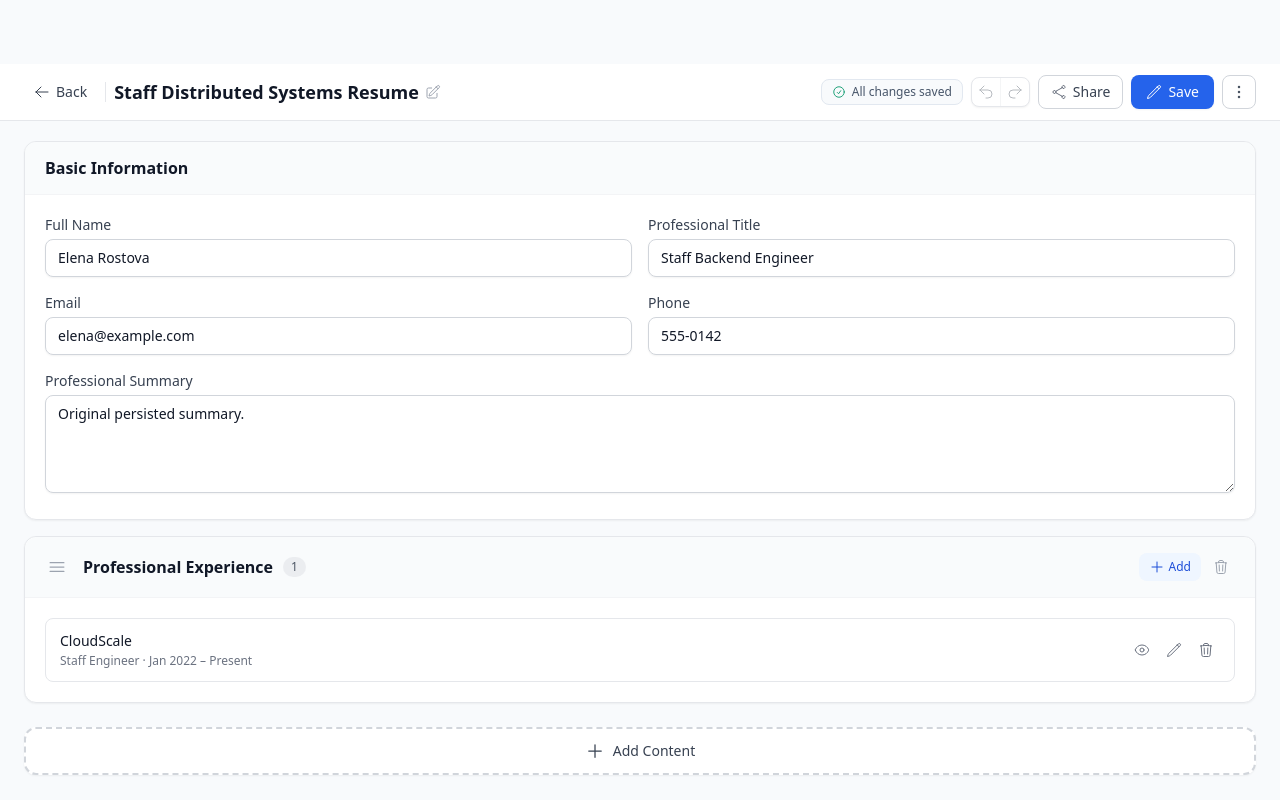
Test case: Global Auth Event Bus & In-Place Re-Authentication Flow › validates inputs, displays warning on invalid credentials, prevents infinite auto-save loops, and never logs credentials
This screenshot has width=1280, height=800.
Replace the text in the field labelled "Full Name" with "Elena Updated" at (338, 258), box [45,239,632,277]
Wait 2000 ms
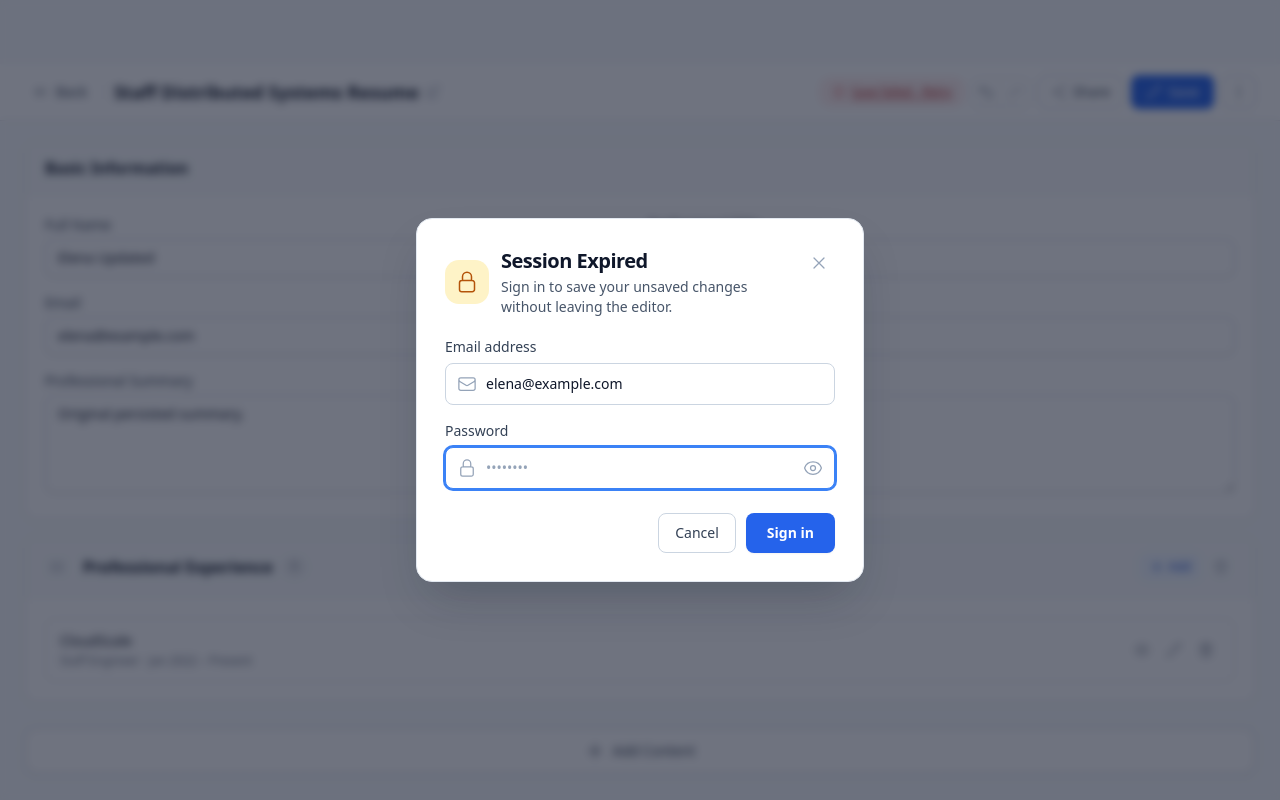
Empty fields validation
Clear the field labelled "Email address" at (640, 384), box [445,363,835,405]
Click the button "Sign in" at (790, 533), box [746,513,835,553]
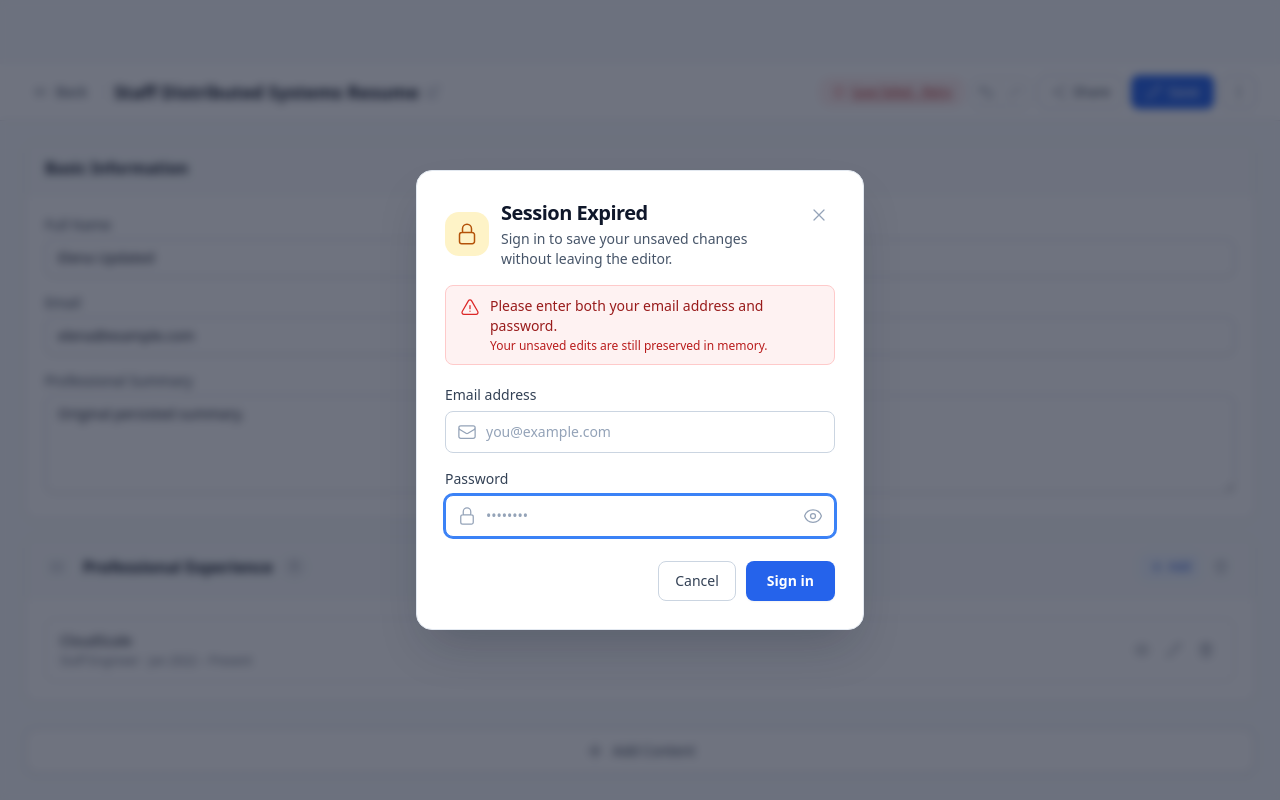
Result: the message with test id "reauth-error-alert" shows "Please enter both your email address and password" at [490,296,764,335]
Invalid email format validation
Type "not-an-email" into the field labelled "Email address" at (640, 432), box [445,411,835,453]
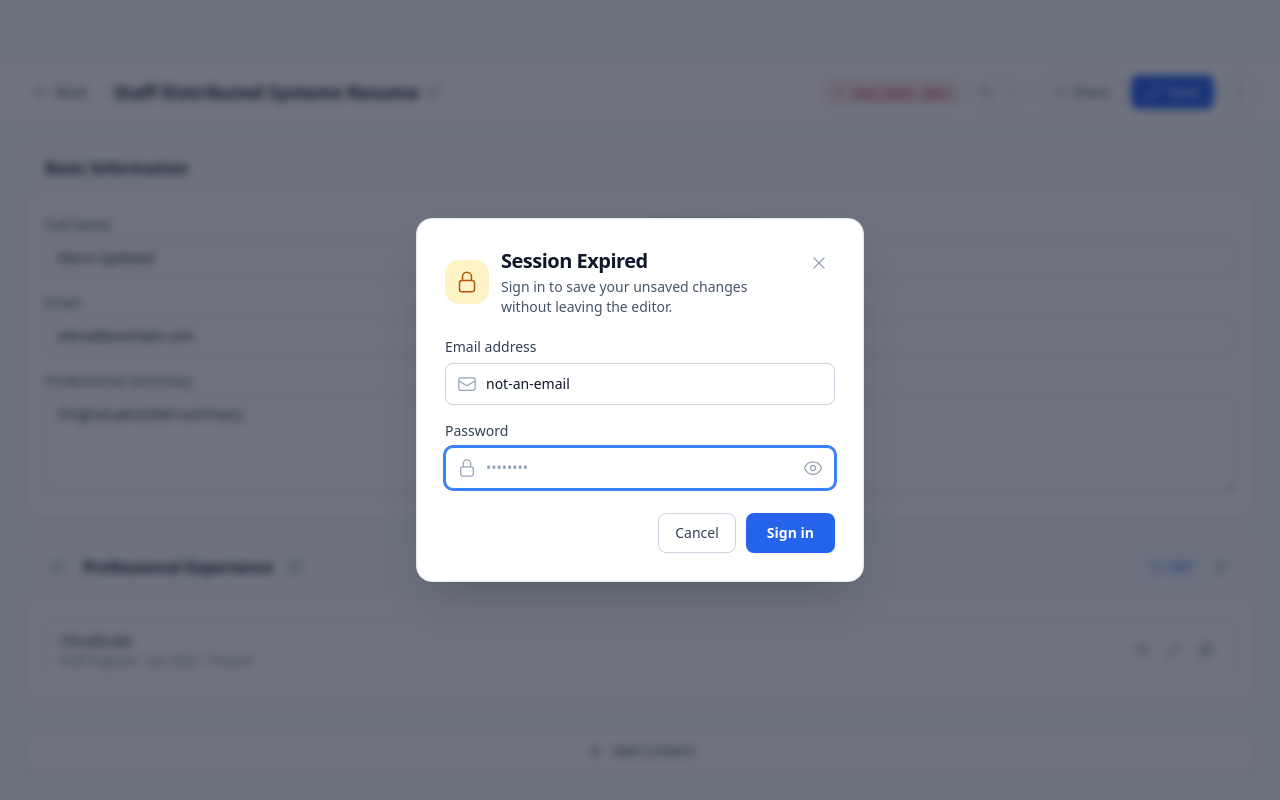
Type "MySuperSecretPassword#42" into the password field labelled "Password" at (640, 468), box [445,447,835,489]
Click the button "Sign in" at (790, 533), box [746,513,835,553]
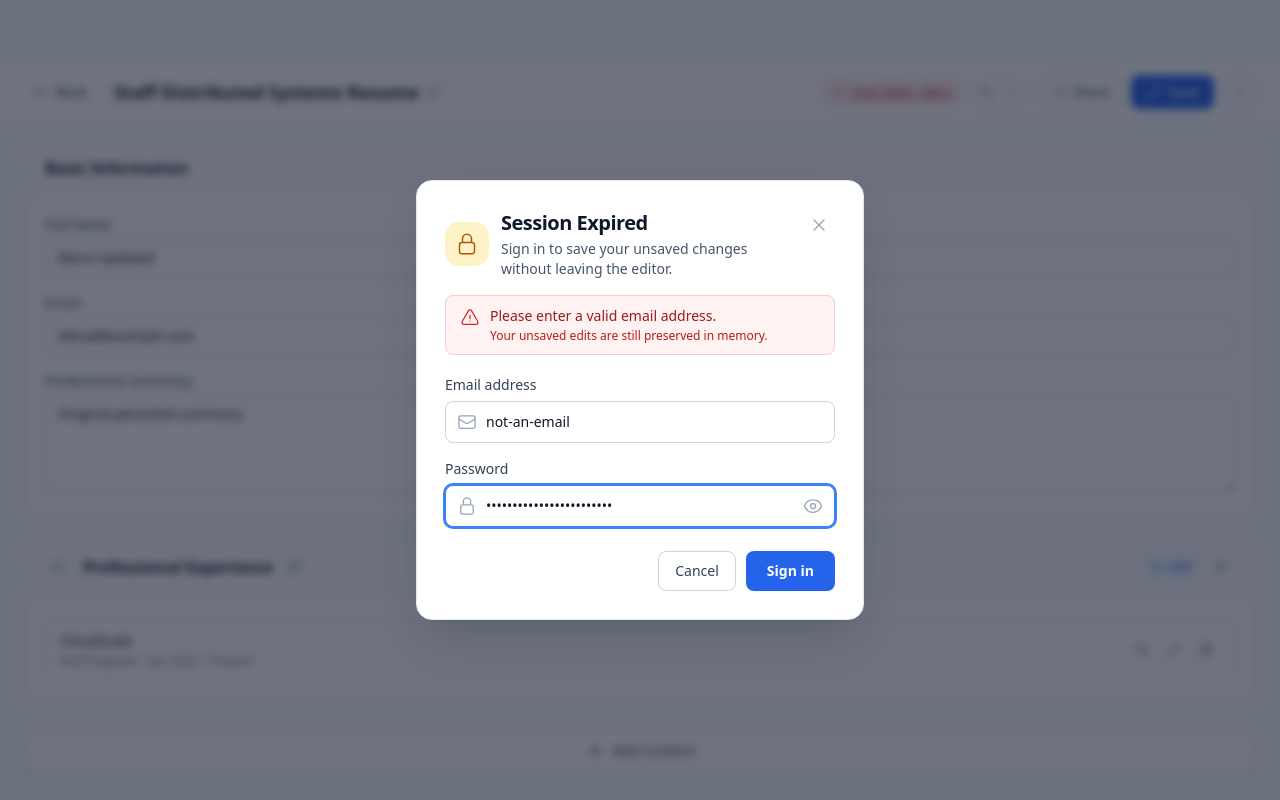
Result: the message with test id "reauth-error-alert" shows "Please enter a valid email address" at [490,306,716,325]
Invalid credentials from server (401 on /api/auth/login)
Replace the text in the field labelled "Email address" with "elena@example.com" at (640, 422), box [445,401,835,443]
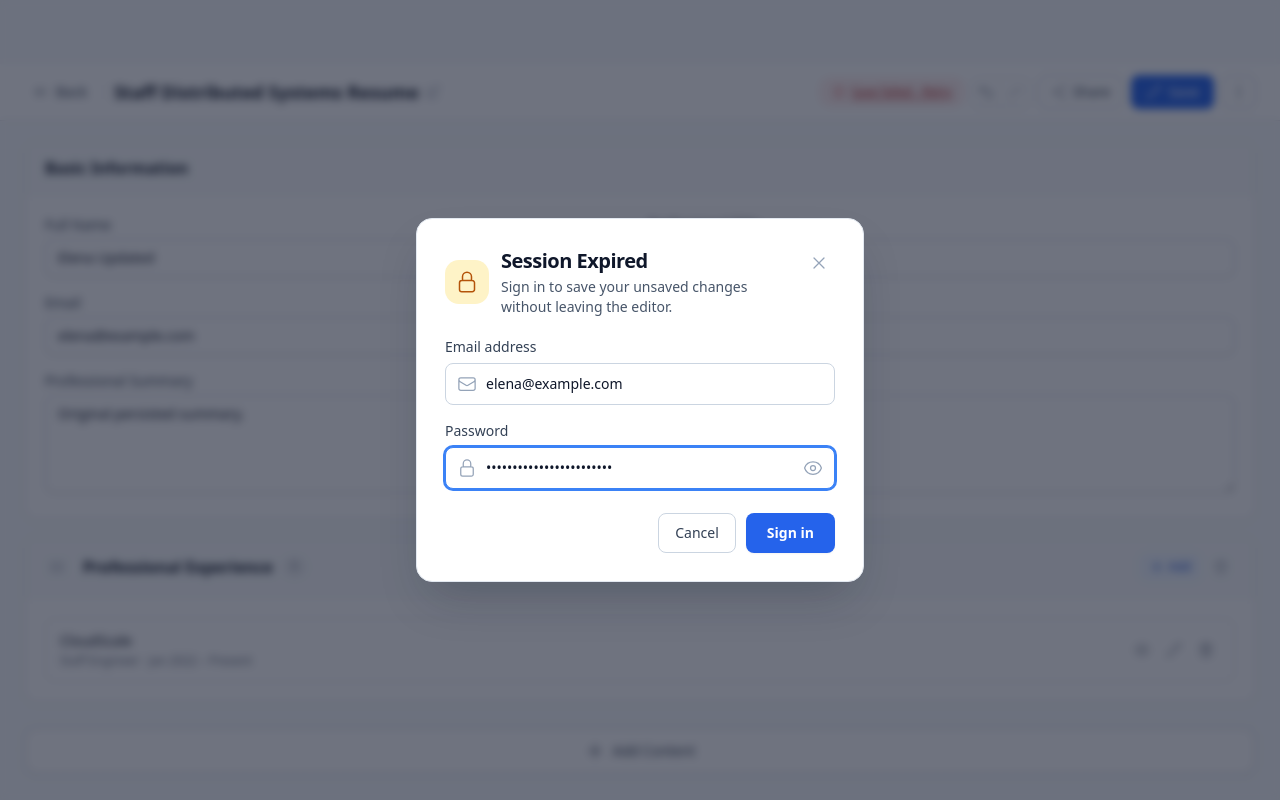
Click the button "Sign in" at (790, 533), box [746,513,835,553]
Wait 10000 ms
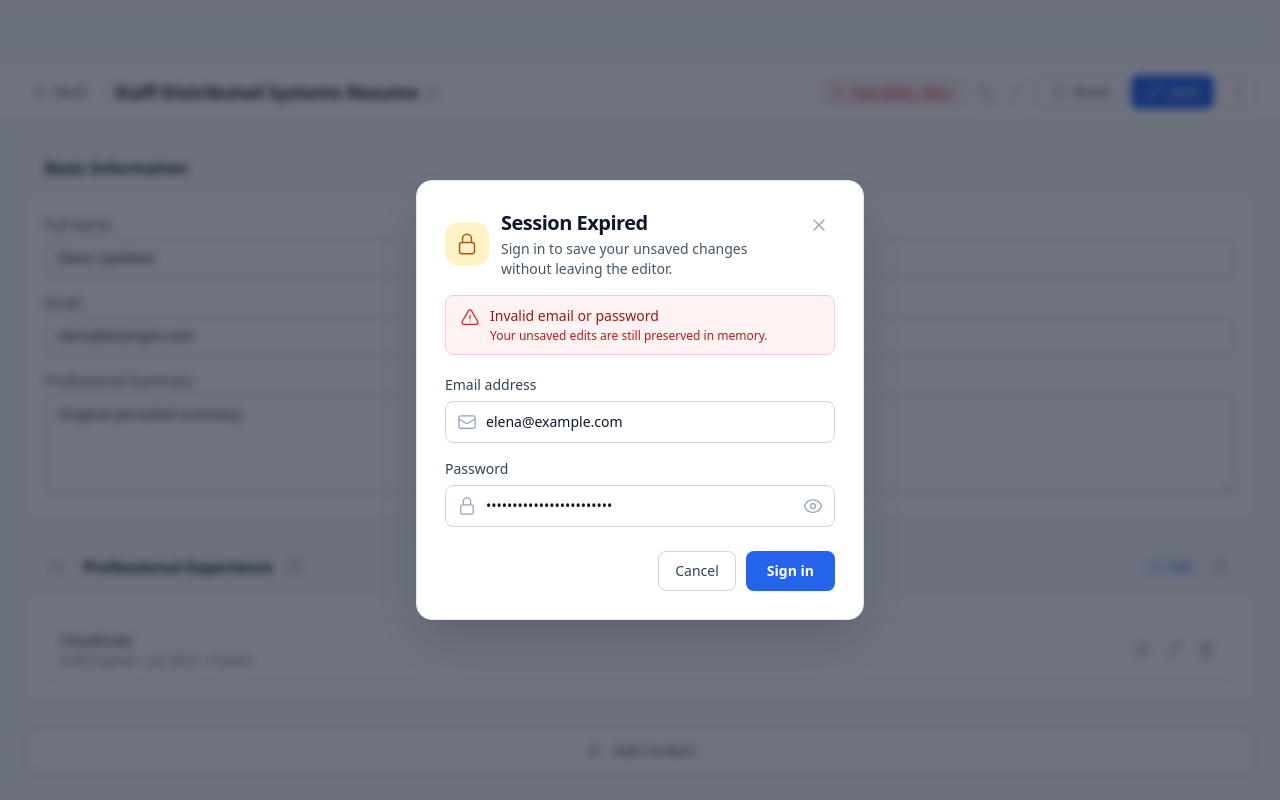
Result: the dialog with test id "reauth-modal" is shown at [416,180,864,620]
Result: the message with test id "reauth-error-alert" shows "Invalid email or password" at [490,306,659,325]
